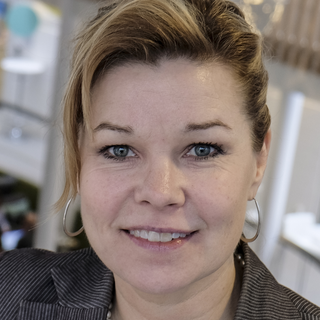eye: (176, 138, 229, 164), (93, 139, 142, 165)
